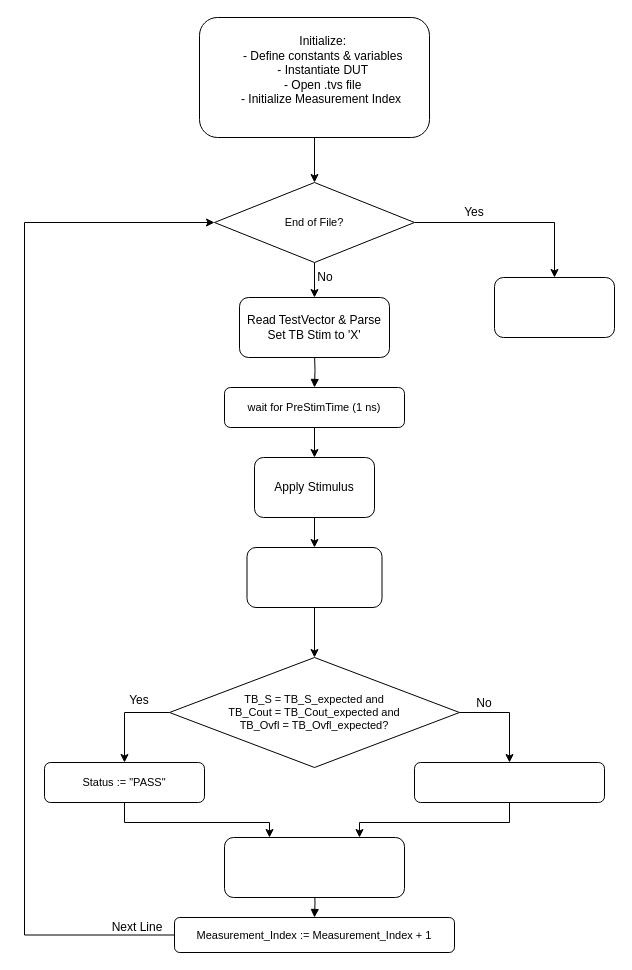
This 632x970 diagram has some shape labels left out. The centre of each missing label's shape, as x and y in pixels:
Close .tvs file Simulation Complete: point (554, 307)
Report Summary: point (314, 867)
Status := "FAIL" Failures := Failures + 1: point (509, 782)
wait 10ns PostStimtime: point (314, 577)
